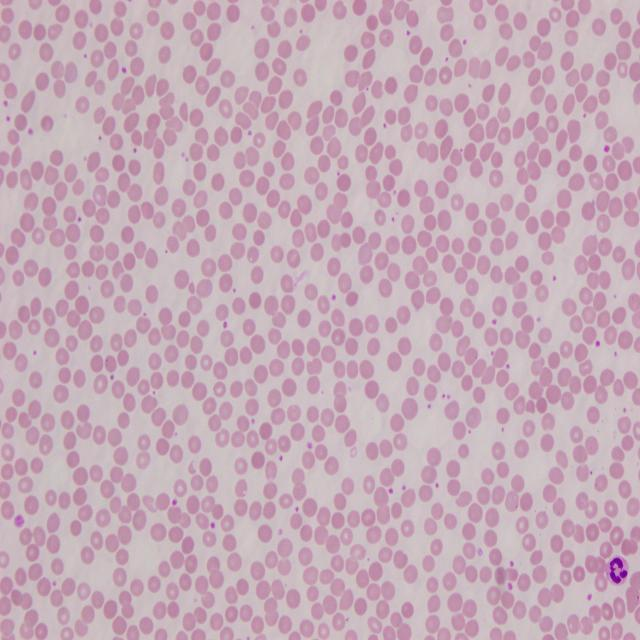cell: (606, 557, 629, 583)
